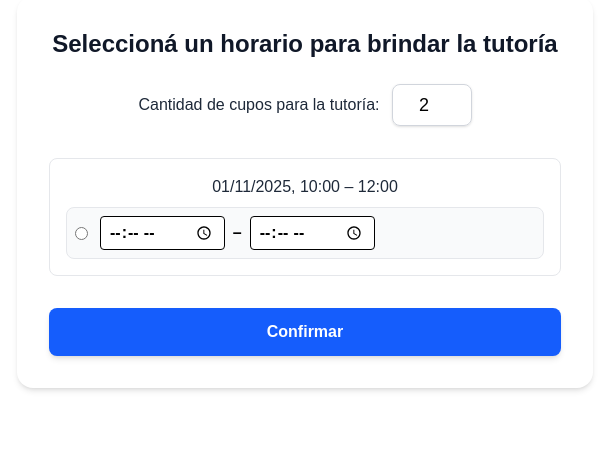
Test: muestra error si se intenta confirmar sin seleccionar horario
This screenshot has width=611, height=449.
Click the button "Confirmar" at coordinates (305, 332), box [49,308,561,356]
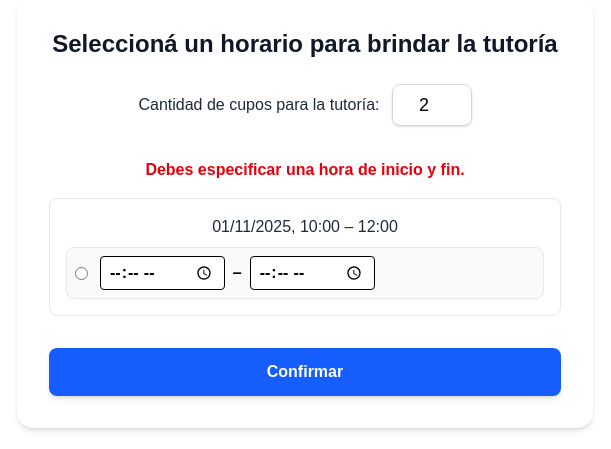
expect the text "Debes especificar una hora de inicio y fin." is shown: met, box [145,161,465,178]
